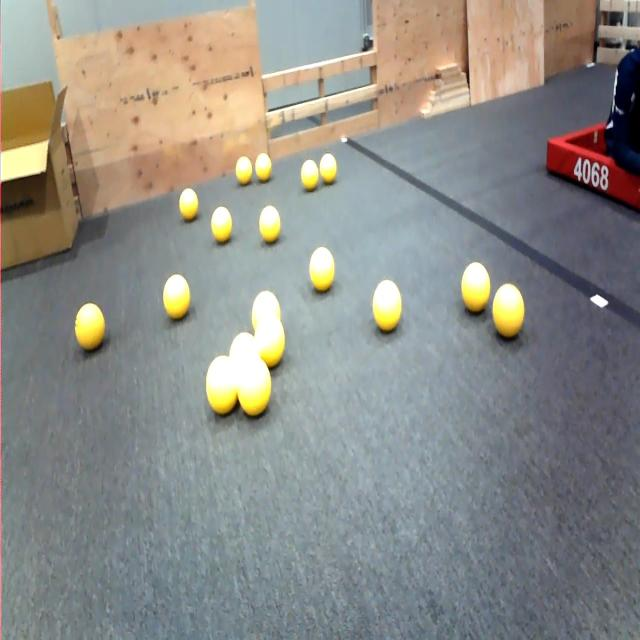fuel: (238, 357, 271, 416), (206, 355, 237, 415), (493, 284, 524, 338), (255, 315, 285, 367), (75, 302, 105, 351), (461, 262, 490, 312), (373, 280, 401, 331), (163, 274, 190, 319), (252, 290, 280, 330), (309, 248, 334, 292), (229, 332, 258, 361), (211, 207, 232, 243), (259, 206, 280, 242), (179, 188, 198, 221), (301, 159, 319, 191), (320, 153, 337, 184), (255, 152, 271, 182), (236, 156, 252, 185)
